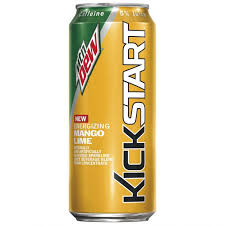can: (67, 1, 161, 225)
